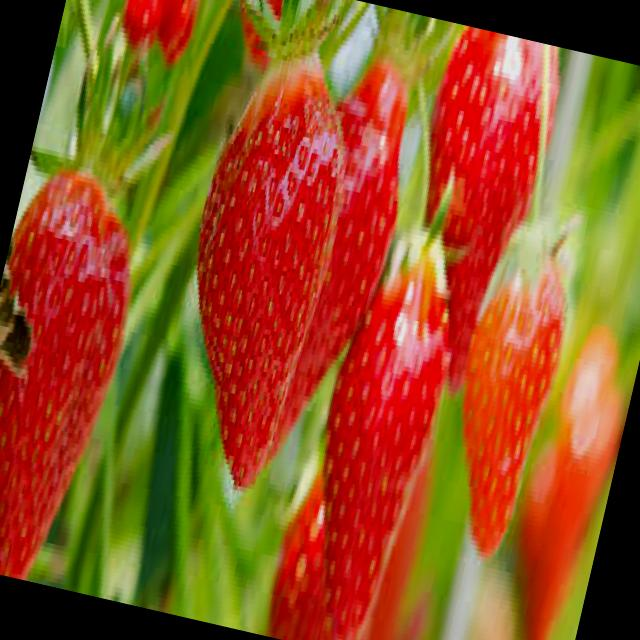strawberry: (136, 35, 376, 495), (280, 211, 483, 640), (0, 103, 171, 589), (371, 22, 567, 410), (424, 222, 586, 568)
